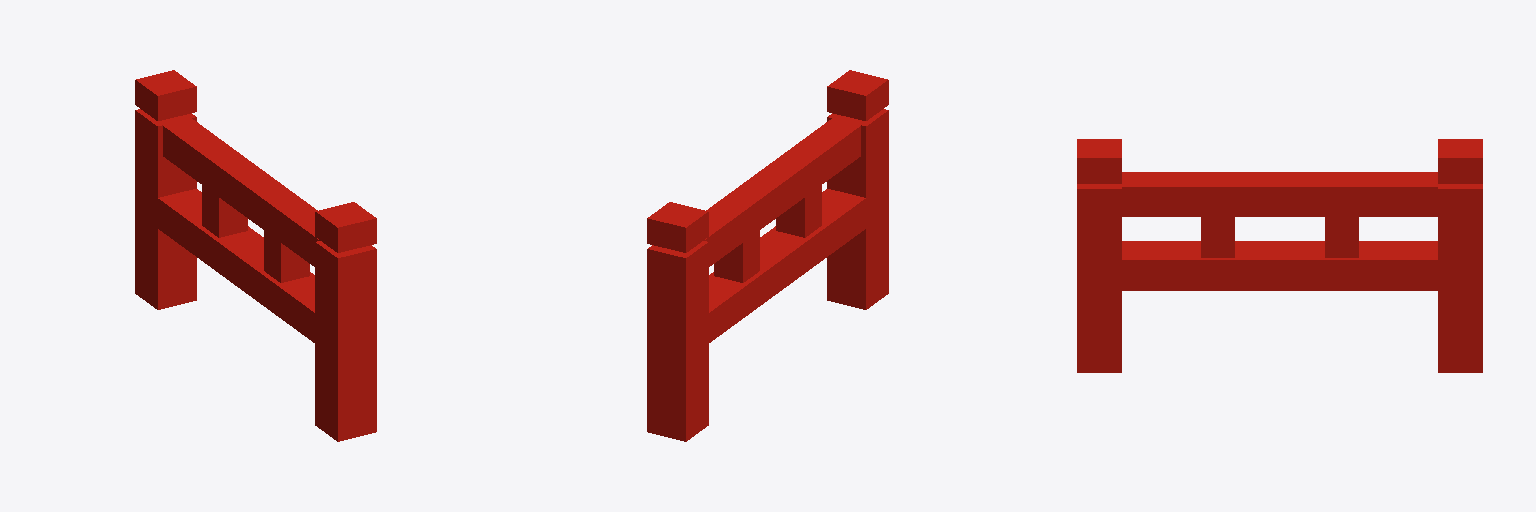
3 renders of one model, left to right at view 1: azimuth 30°, elevation 25°; view 2: azimuth 150°, elevation 25°; view 3: azimuth 270°, elevation 25°, orthographic.
Visible parts, largest first — view 1: cube; view 2: cube; view 3: cube.
Part boxes in pixels (bbox=[...]): cube: bbox=[135, 70, 376, 441]; cube: bbox=[647, 70, 888, 441]; cube: bbox=[1077, 139, 1482, 372].
Size of the model in its own units: 0.125 by 0.6562 by 1.12.
Materials: 1 (1 with a texture image).